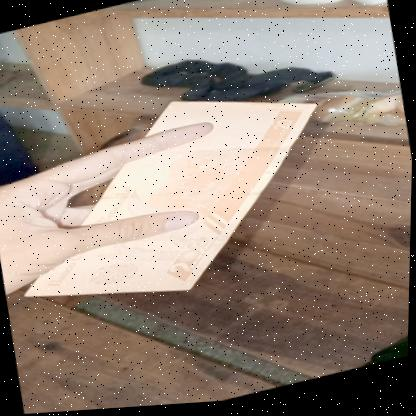twenty-back-vef: (0, 68, 345, 331)
